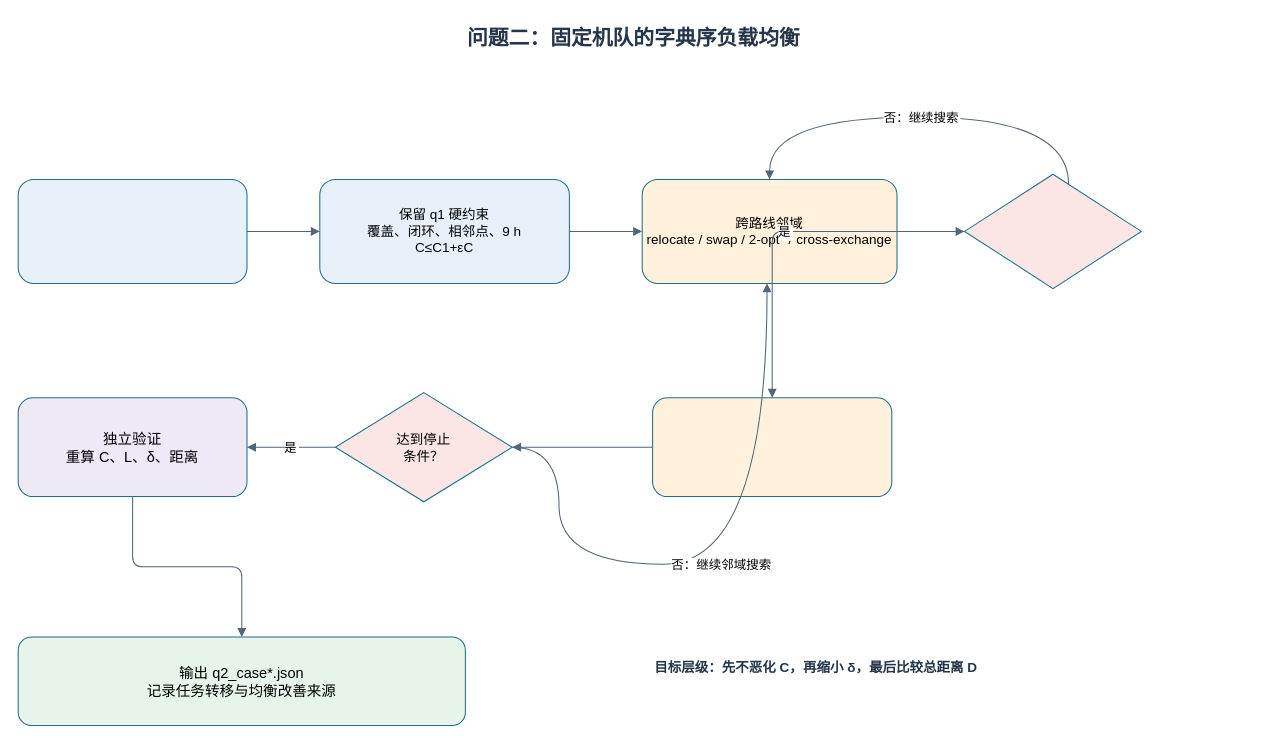
Image size: 1264x744. Some labels were removed from this diagram. Here are the shapes that lost their labels. From the top down, the centre of each, then its label:
At point 132,230: "输入 q1 N=N_min、基准路线、C1".
At point 1052,231: "可行且 lex 改善？".
At point 772,447: "接受候选 按 (C, δ, D) 比较 δ=C−L".
